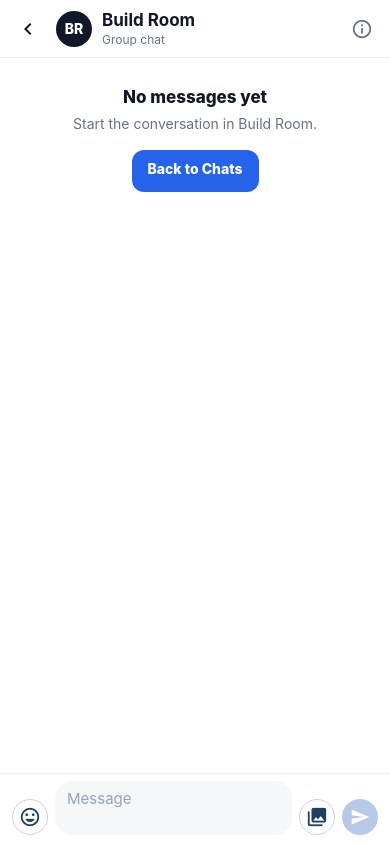
Test: NativeChatRoomPage › resets member search for each new group info drawer session
The width and height of the screenshot is (390, 844).
Click the button named "Chat info".
click(362, 28)  # box [344,10,380,46]
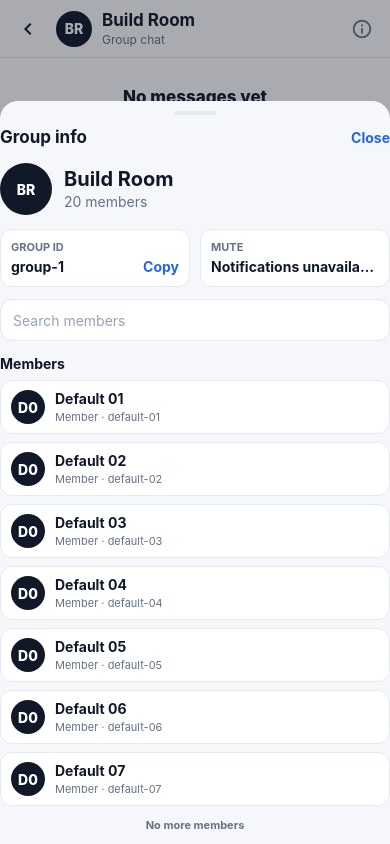
Type "nina" into the field with placeholder "Search members".
click(195, 320); type("nina")  # box [0,299,389,341]
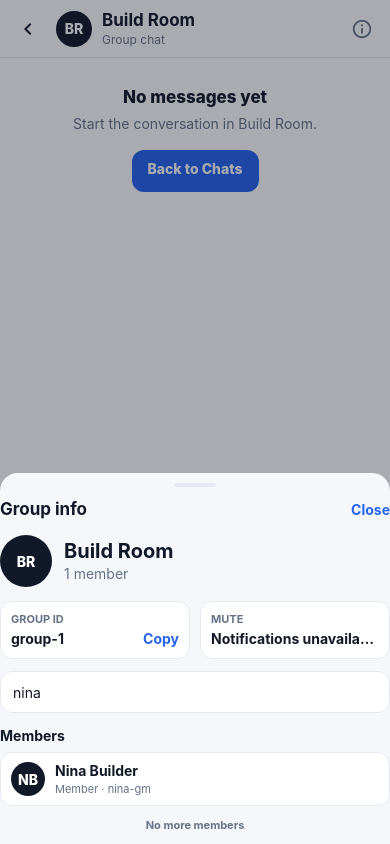
Click the element showing "Close".
click(371, 509)  # box [351,500,389,518]
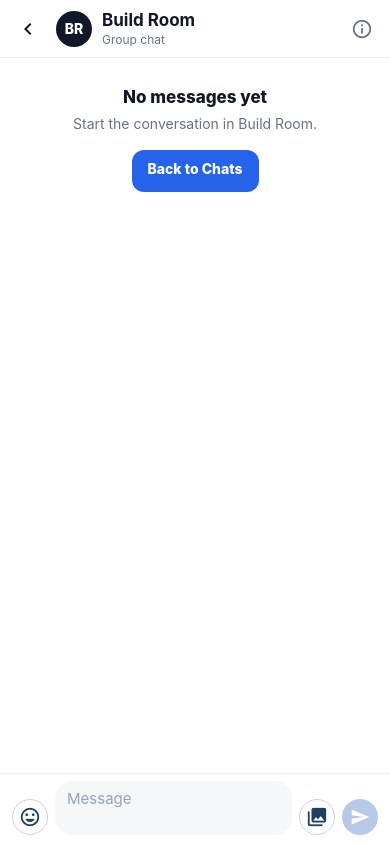
Click the button named "Chat info".
click(362, 28)  # box [344,10,380,46]
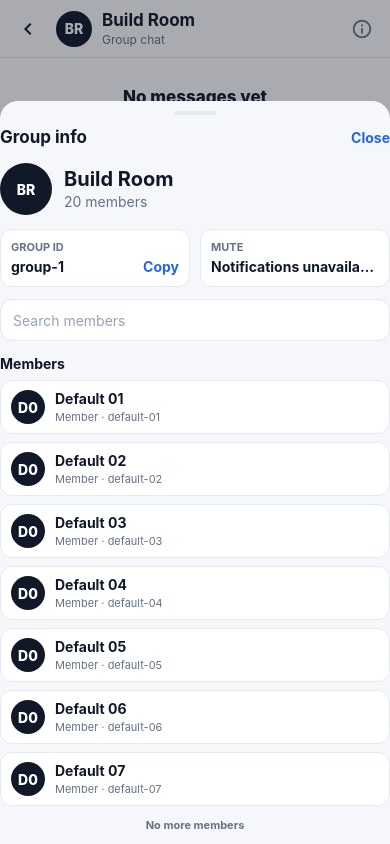
Expected: the field with placeholder "Search members" is empty, [0,299,389,341]
Expected: the text "Default 01" is shown, [55,390,124,407]
